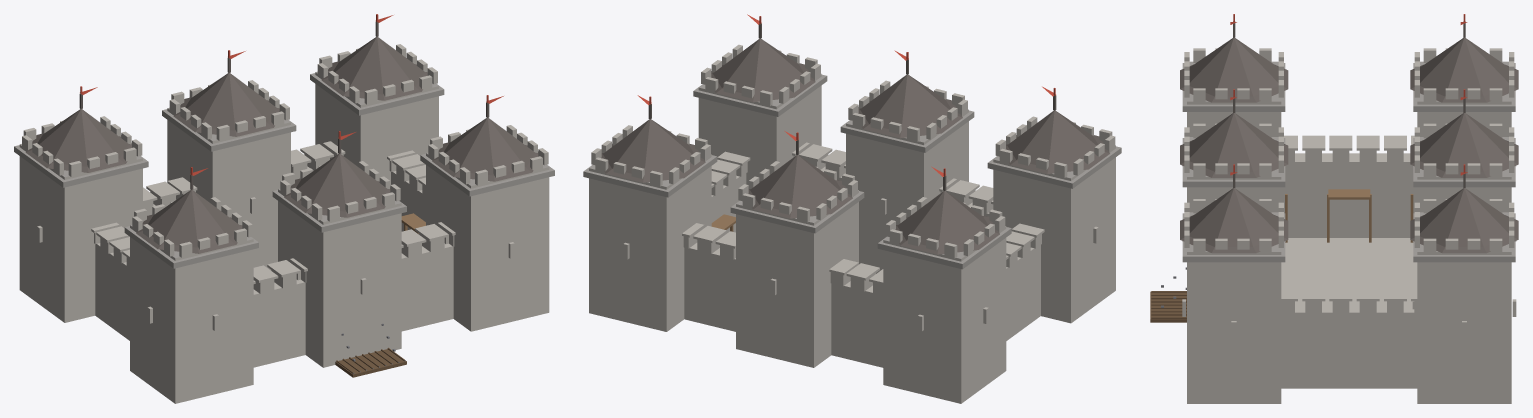
File: castle.glb
3 views of the same model, side by side, from view 1: azimuth 30°, elevation 25°; view 2: azimuth 150°, elevation 25°; view 3: azimuth 270°, elevation 25° (orthographic). The views are drawn at different scales.
Parts seen in each view (by area): view 1: Castle_Base_Tower_SW, Castle_Base_Tower_SE, Castle_Base_Tower_S, Castle_Base_Tower_NW, Castle_Base_Tower_N, Castle_Base_Tower_NE, Castle_Base_Wall_South_L, Castle_Base_Wall_South_R, Castle_Top_TowerRoof_S, Castle_Top_TowerRoof_NE, Castle_Top_TowerRoof_SW, Castle_Top_TowerRoof_NW (+17 smaller); view 2: Castle_Base_Tower_NW, Castle_Base_Tower_NE, Castle_Base_Tower_N, Castle_Base_Tower_SW, Castle_Base_Tower_S, Castle_Base_Wall_North, Castle_Base_Tower_SE, Castle_Top_TowerRoof_SW, Castle_Top_TowerRoof_NE, Castle_Top_TowerRoof_SE, Castle_Top_TowerRoof_NW, Castle_Top_TowerRoof_S (+16 smaller); view 3: Castle_Base_Tower_SE, Castle_Base_Tower_NE, Castle_Base_Wall_East, Castle_Base_Wall_West, Castle_Base_Courtyard, Castle_Top_TowerRoof_SE, Castle_Top_TowerRoof_SW, Castle_Top_TowerRoof_S, Castle_Top_TowerRoof_NE, Castle_Top_TowerRoof_NW, Castle_Top_TowerRoof_N, Castle_Top_Battlement_East (+13 smaller).
Part boxes in pixels (<box>): Castle_Base_Tower_SW: <box>124,225,258,403</box>; Castle_Base_Tower_SE: <box>420,152,554,331</box>; Castle_Base_Tower_S: <box>272,188,406,367</box>; Castle_Base_Tower_NW: <box>14,144,148,322</box>; Castle_Base_Tower_N: <box>162,107,296,270</box>; Castle_Base_Tower_NE: <box>310,71,444,186</box>; Castle_Base_Wall_South_L: <box>253,279,305,367</box>; Castle_Base_Wall_South_R: <box>401,243,453,331</box>; Castle_Top_TowerRoof_S: <box>284,138,390,217</box>; Castle_Top_TowerRoof_NE: <box>321,21,427,100</box>; Castle_Top_TowerRoof_SW: <box>136,174,242,253</box>; Castle_Top_TowerRoof_NW: <box>25,94,131,172</box>; Castle_Base_Tower_NW: <box>877,224,1011,403</box>; Castle_Base_Tower_NE: <box>583,153,717,331</box>; Castle_Base_Tower_N: <box>730,190,864,367</box>; Castle_Base_Tower_SW: <box>987,144,1121,323</box>; Castle_Base_Tower_S: <box>840,108,974,273</box>; Castle_Base_Wall_North: <box>684,243,883,367</box>; Castle_Base_Tower_SE: <box>693,72,827,186</box>; Castle_Top_TowerRoof_SW: <box>1005,95,1109,173</box>; Castle_Top_TowerRoof_NE: <box>601,104,705,182</box>; Castle_Top_TowerRoof_SE: <box>711,23,815,102</box>; Castle_Top_TowerRoof_NW: <box>895,176,999,254</box>; Castle_Top_TowerRoof_S: <box>858,59,962,138</box>; Castle_Base_Tower_SE: <box>1182,212,1285,403</box>; Castle_Base_Tower_NE: <box>1412,212,1516,403</box>; Castle_Base_Wall_East: <box>1281,303,1417,388</box>; Castle_Base_Wall_West: <box>1281,153,1417,237</box>; Castle_Base_Courtyard: <box>1281,238,1417,303</box>; Castle_Top_TowerRoof_SE: <box>1180,174,1288,253</box>; Castle_Top_TowerRoof_SW: <box>1180,21,1288,102</box>; Castle_Top_TowerRoof_S: <box>1180,98,1288,177</box>; Castle_Top_TowerRoof_NE: <box>1410,173,1518,253</box>; Castle_Top_TowerRoof_NW: <box>1410,21,1518,102</box>; Castle_Top_TowerRoof_N: <box>1410,98,1518,177</box>; Castle_Top_Battlement_East: <box>1281,286,1417,313</box>.
Bounding box in the file's own units: 44.35 × 23.1 × 35.17.
